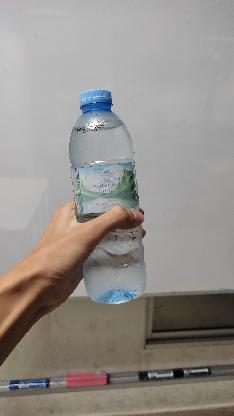Plastic Bottle: (67, 88, 151, 308)
